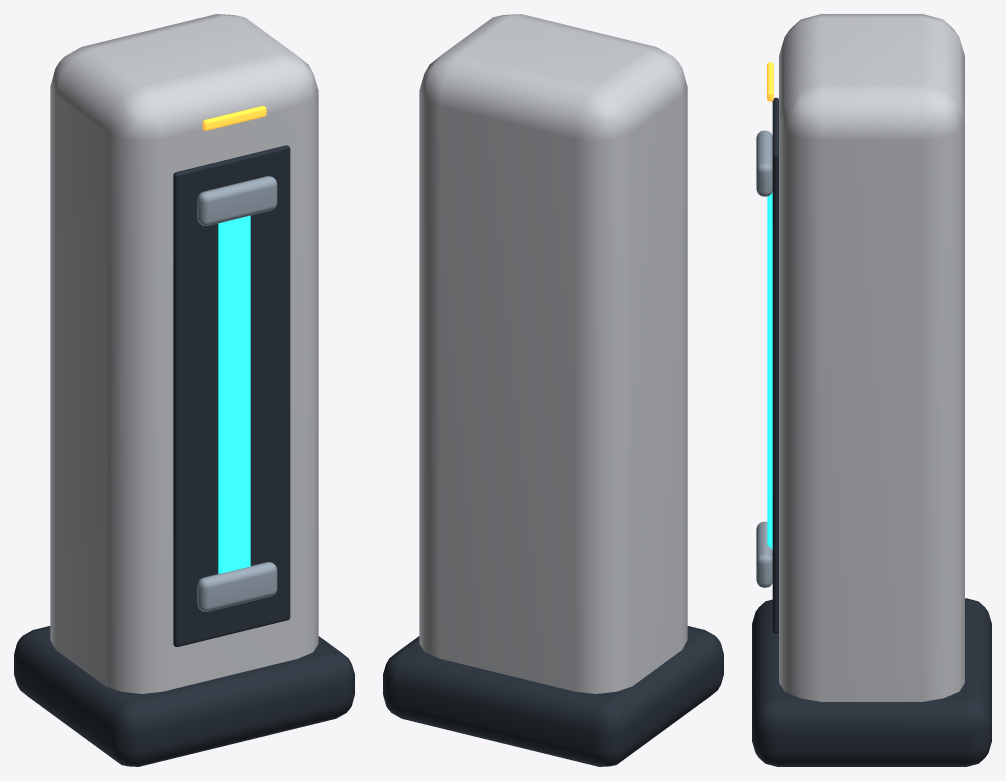
Rendered from ChargeColumn.glb.
3 renders of one model, left to right at view 1: azimuth 30°, elevation 25°; view 2: azimuth 150°, elevation 25°; view 3: azimuth 270°, elevation 25°, orthographic.
Parts seen in each view (by area): view 1: Housing, BlackInset, Base, EnergyCore, CoreSocket.001, CoreSocket, Status; view 2: Housing, Base; view 3: Housing, Base, BlackInset, EnergyCore, CoreSocket.001, CoreSocket.
Boxes of the visible parts, x1,y1,x2,y2 form: Housing: (50, 14, 318, 693); BlackInset: (173, 145, 290, 646); Base: (14, 626, 354, 766); EnergyCore: (218, 215, 250, 573); CoreSocket.001: (197, 176, 277, 225); CoreSocket: (197, 562, 277, 611); Status: (202, 105, 266, 130); Housing: (419, 14, 687, 693); Base: (383, 626, 723, 766); Housing: (779, 14, 964, 701); Base: (752, 598, 991, 766); BlackInset: (772, 97, 778, 633); EnergyCore: (767, 192, 772, 549); CoreSocket.001: (756, 130, 772, 196); CoreSocket: (756, 521, 772, 587).
Bounding box in the file's own units: 1 × 2.6 × 0.85.
